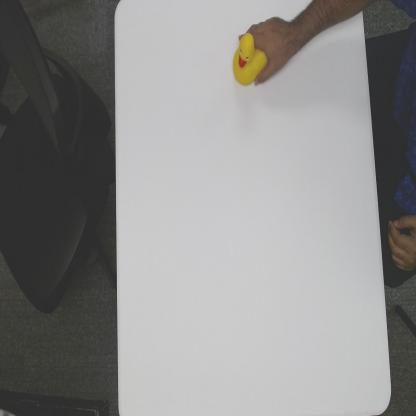Arm: (291, 0, 366, 51)
Duck: (232, 30, 261, 84)
Hand: (261, 14, 296, 55)
